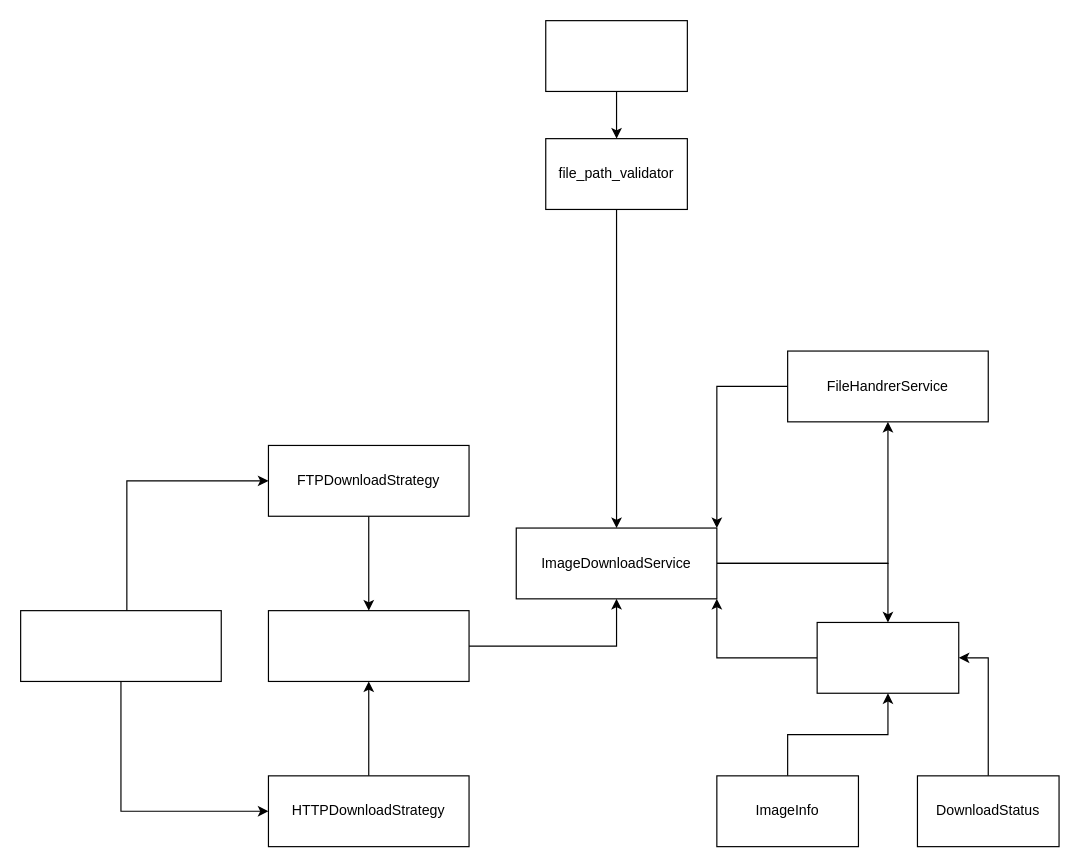
This 1080x867 diagram has some shape labels left out. Each missing label, with the box of its shape:
DownloadStratagyFactory: (267, 609, 469, 681)
DownloadStrategy: (19, 609, 221, 681)
DownloadTask: (816, 621, 959, 693)
MAIN: (545, 19, 687, 91)
